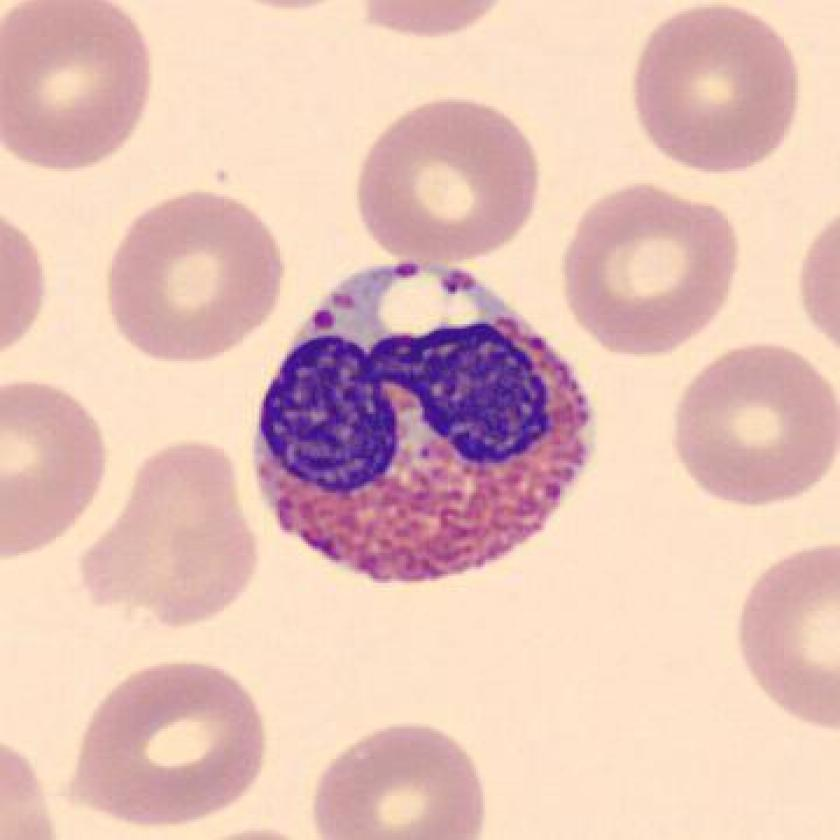eosinophil: (244, 237, 605, 598)
